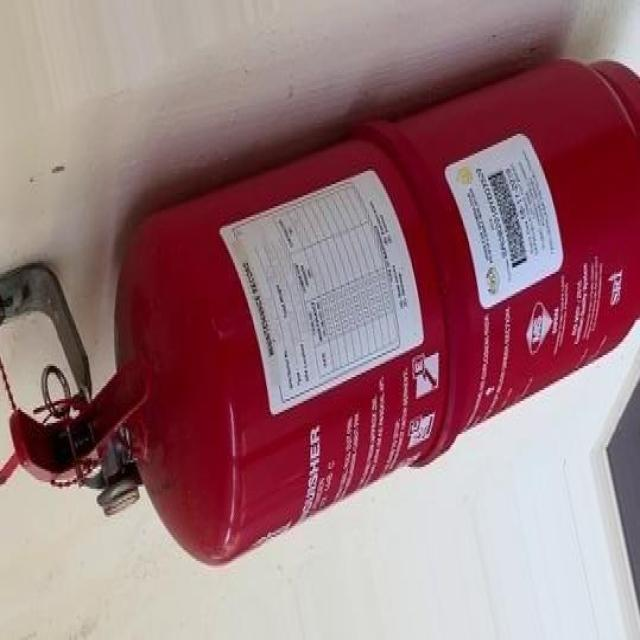fire_extinguisher: (6, 49, 639, 571)
